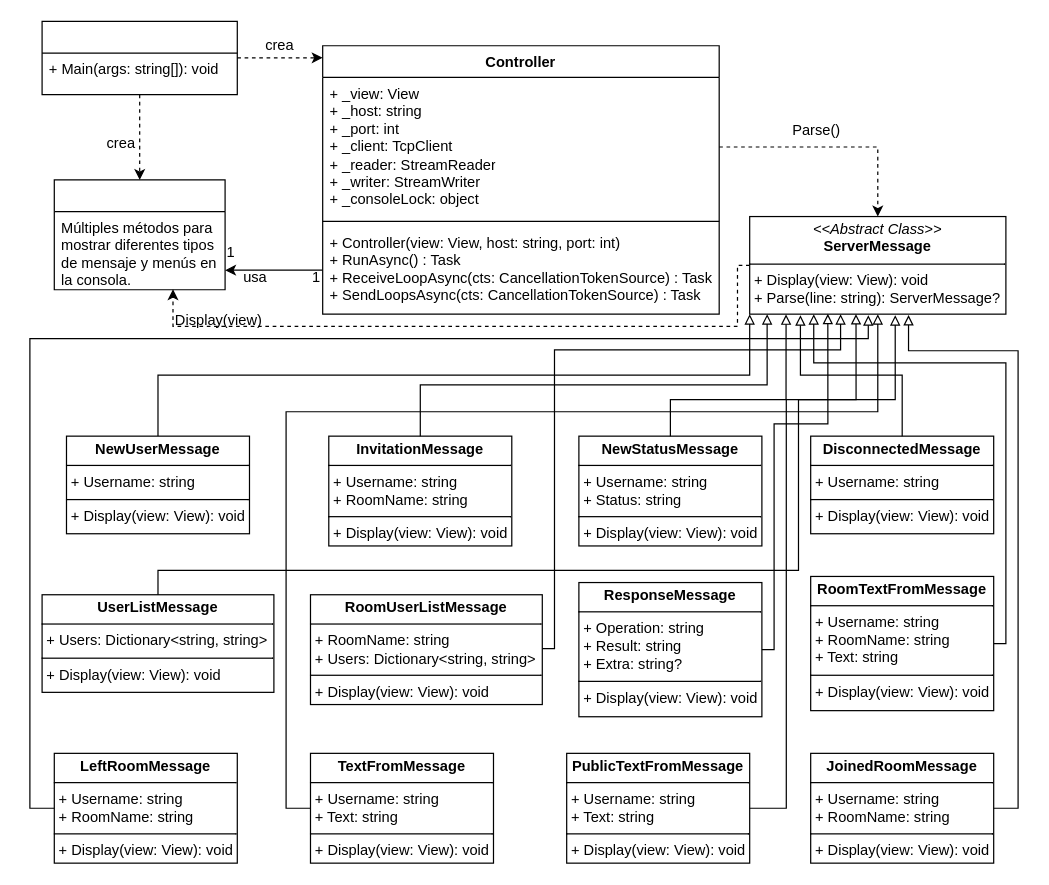
This 1049x885 diagram has some shape labels left out. Each missing label, with the box of its shape:
Program: (41, 20, 237, 95)
View: (53, 179, 225, 290)
